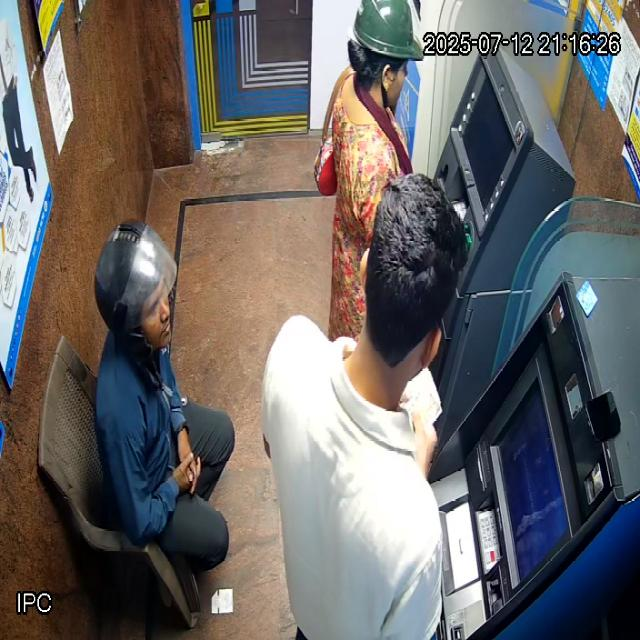helmet: (93, 218, 177, 359), (346, 0, 424, 110)
no_helmet: (345, 172, 468, 411)
